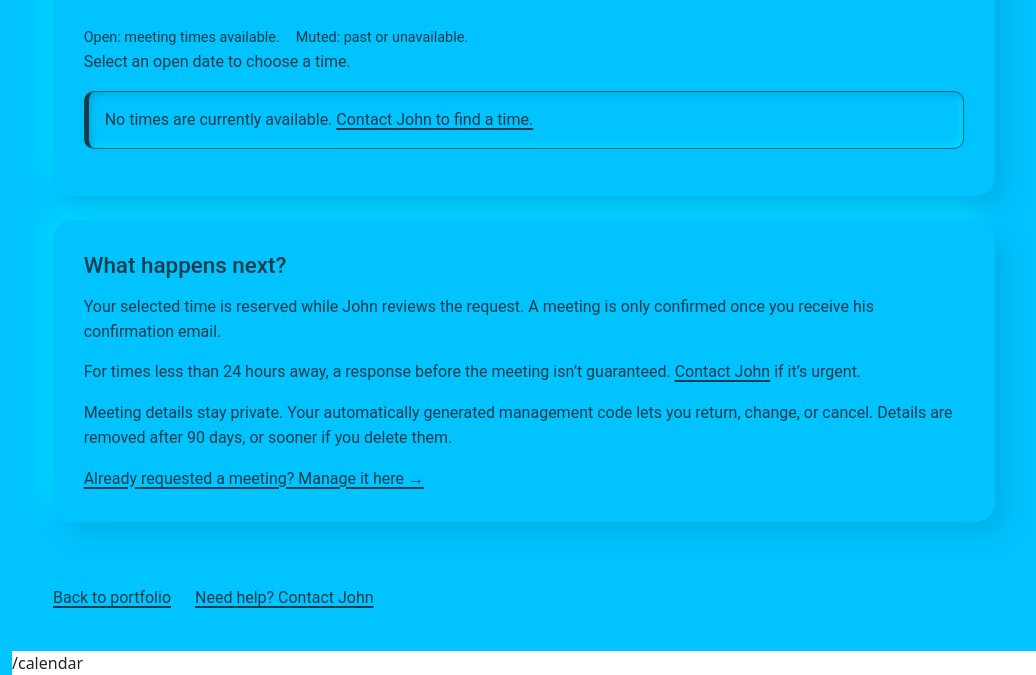
Test: scheduler Contact John actions open and focus the website contact form
The image size is (1036, 675).
(page scrolled)
Expected: the link "Contact John to find a time." is shown, left=336, top=110, right=533, bottom=128
Click the link "Need help? Contact John" at (284, 599), box left=195, top=586, right=374, bottom=611
(page scrolled)
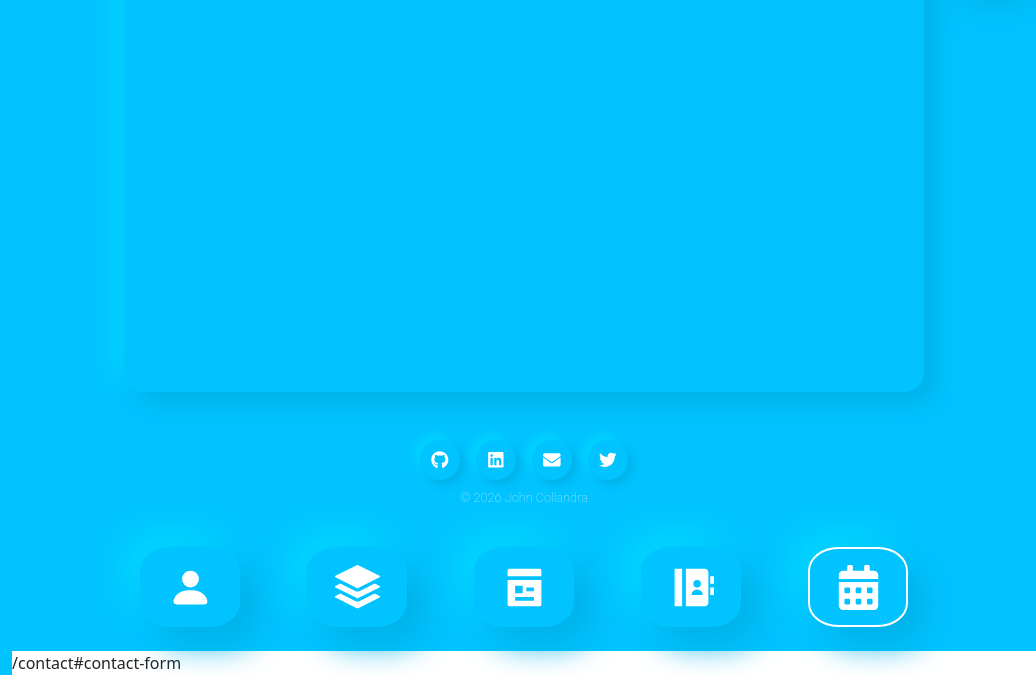
Now the text named "route" reads "/contact#contact-form", box left=12, top=651, right=181, bottom=674
